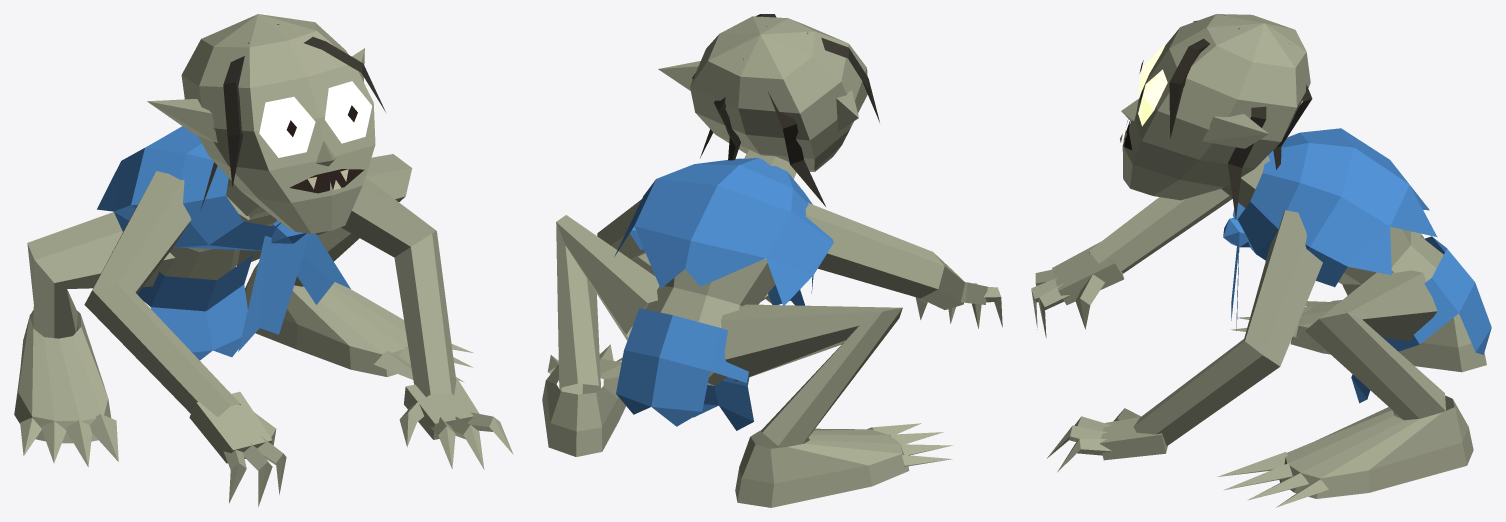
Rendered from gollum.glb.
3 views of the same model, side by side, from view 1: azimuth 30°, elevation 25°; view 2: azimuth 150°, elevation 25°; view 3: azimuth 270°, elevation 25° (orthographic). The views are drawn at different scales.
Visible parts, largest first — view 1: gollum; view 2: gollum; view 3: gollum.
Part boxes in pixels (<box>): gollum: <box>14,14,513,506</box>; gollum: <box>542,14,1002,507</box>; gollum: <box>1031,14,1491,507</box>.
Size of the model in its own units: 0.7382 by 0.6373 by 0.6922.
